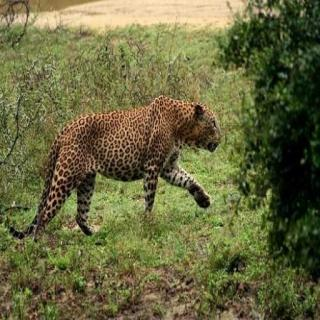Leopard: (59, 87, 268, 218)
